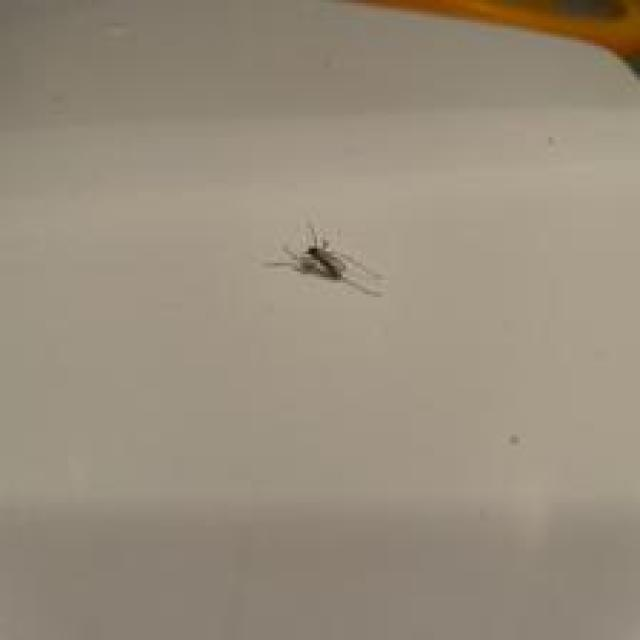Culex: (263, 223, 386, 300)
